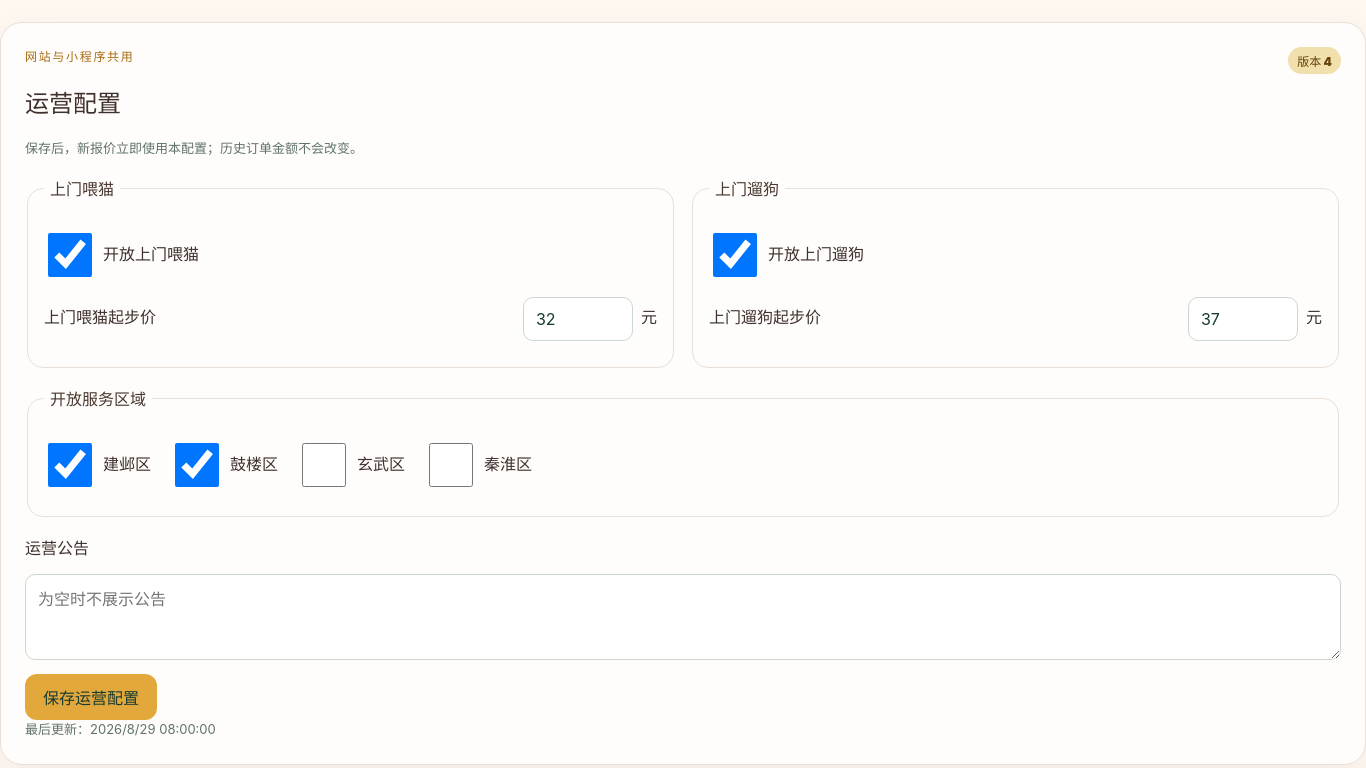
Scenario: OperationsSettingsPanel › saves service switches, prices, districts, and announcement as one versioned update
expect the heading "运营配置" is shown: met, box left=25, top=84, right=134, bottom=119
Click the checkbox labelled "开放上门遛狗" at (735,255), box left=713, top=233, right=757, bottom=277
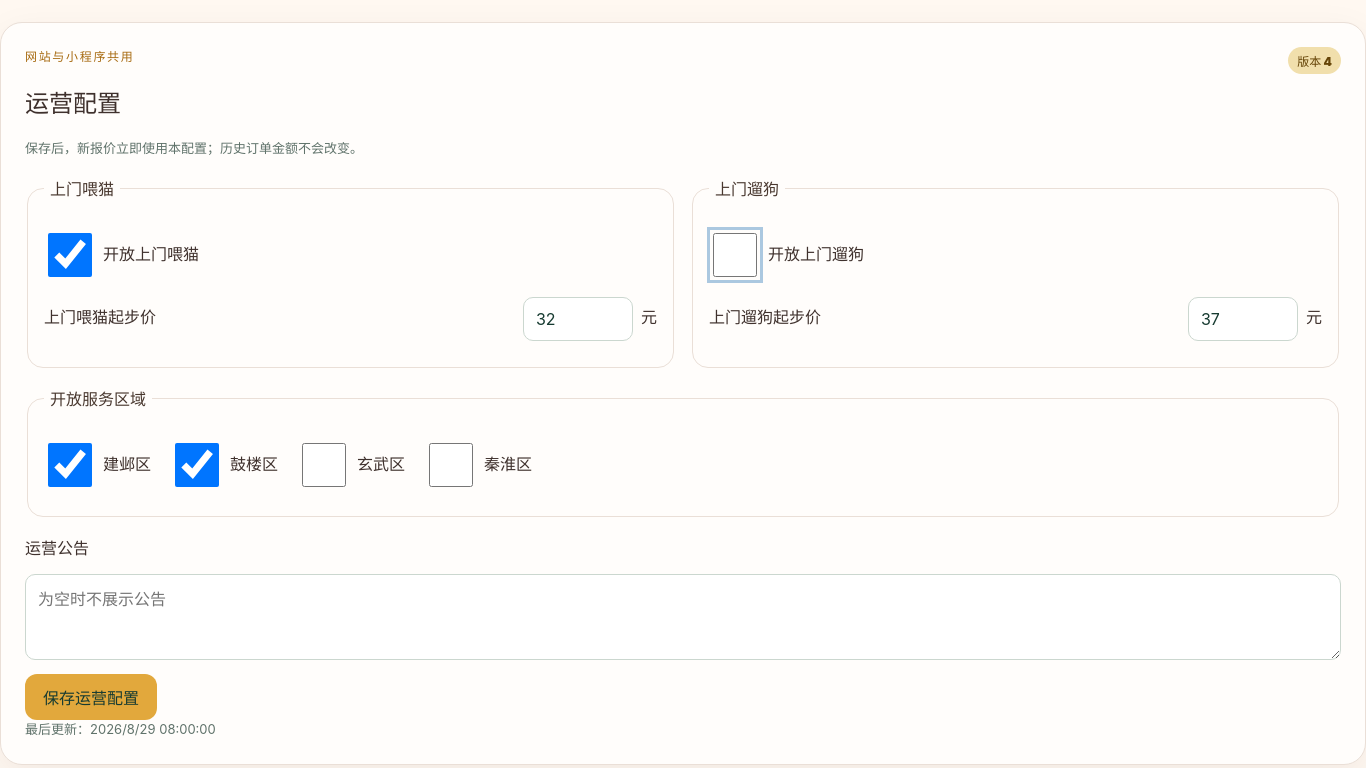
Replace the text in the number field labelled "上门喂猫起步价" with "35" at (578,319), box left=523, top=297, right=633, bottom=341
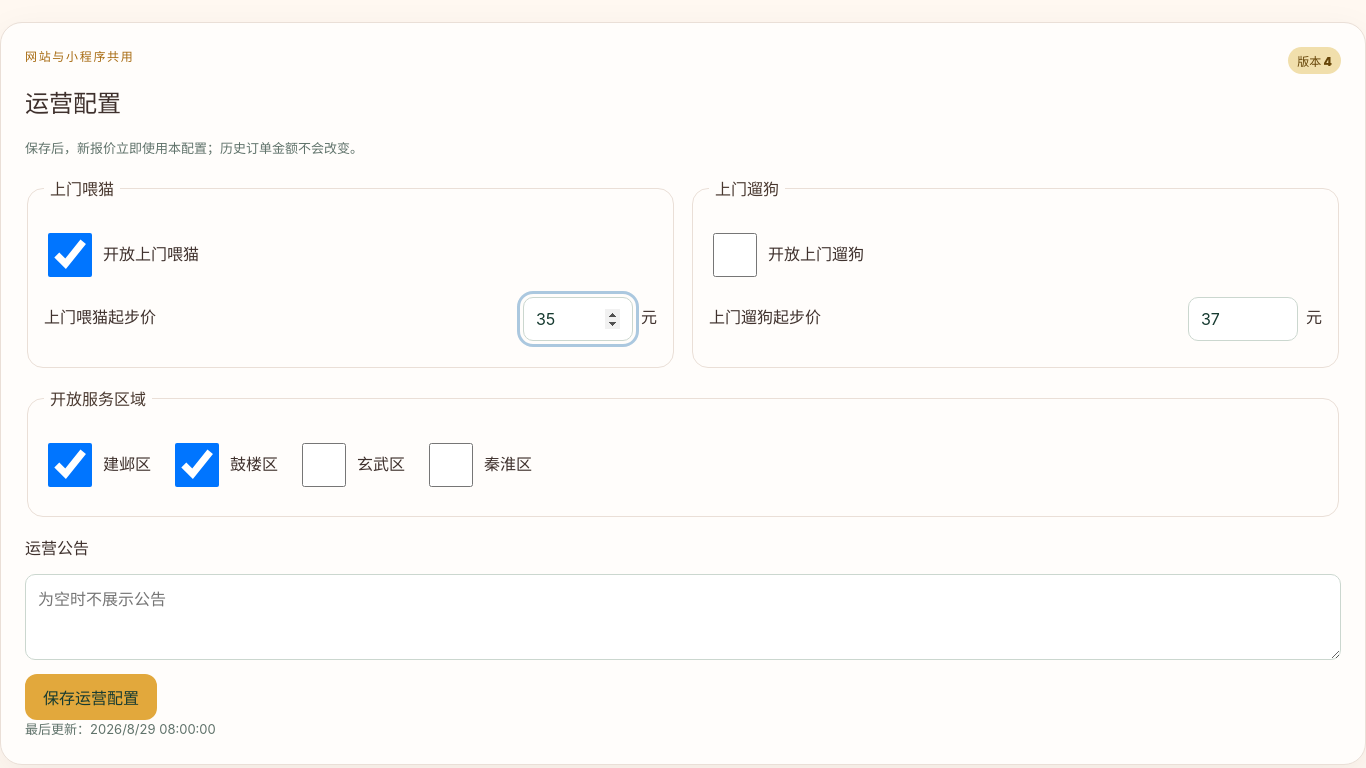
Click the checkbox labelled "玄武区" at (324,465), box left=302, top=443, right=346, bottom=487
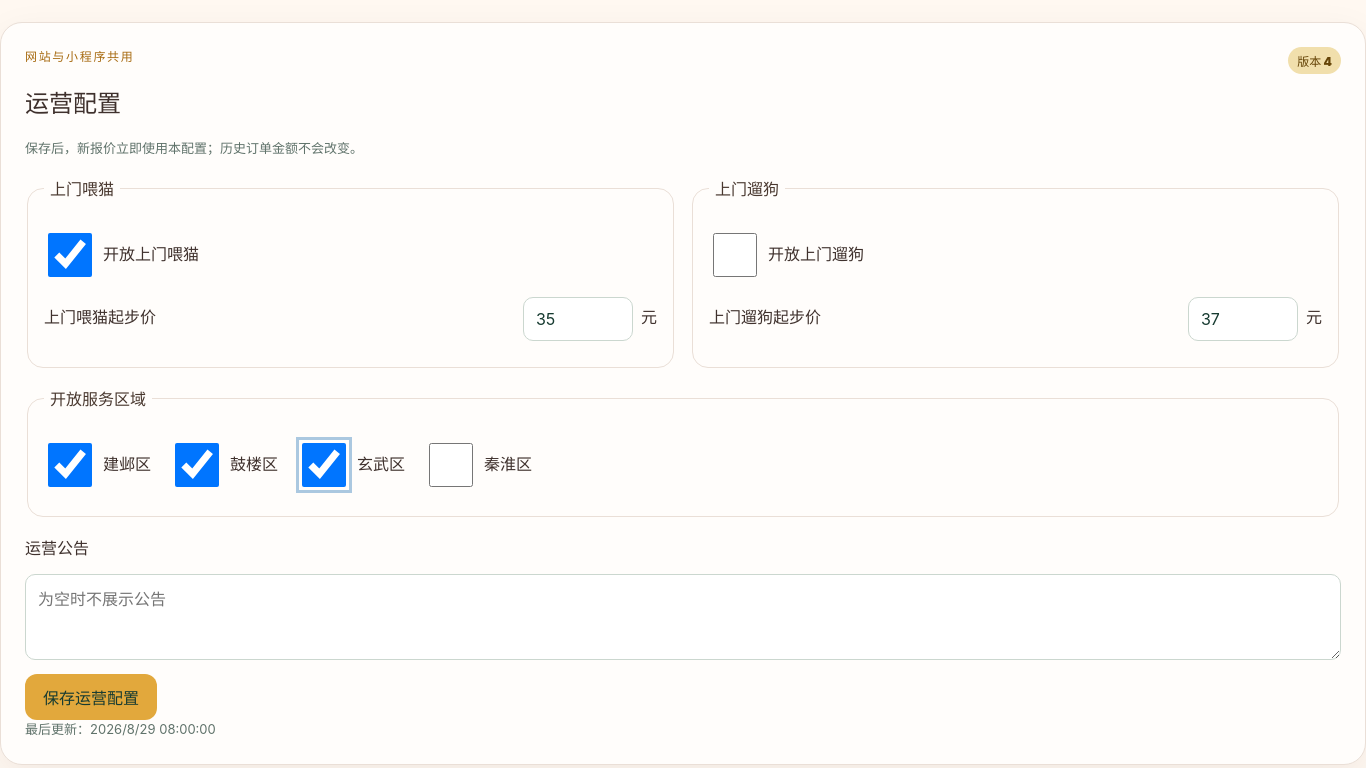
Type "周末正常接单" into the text box labelled "运营公告" at (683,617), box left=25, top=574, right=1341, bottom=660
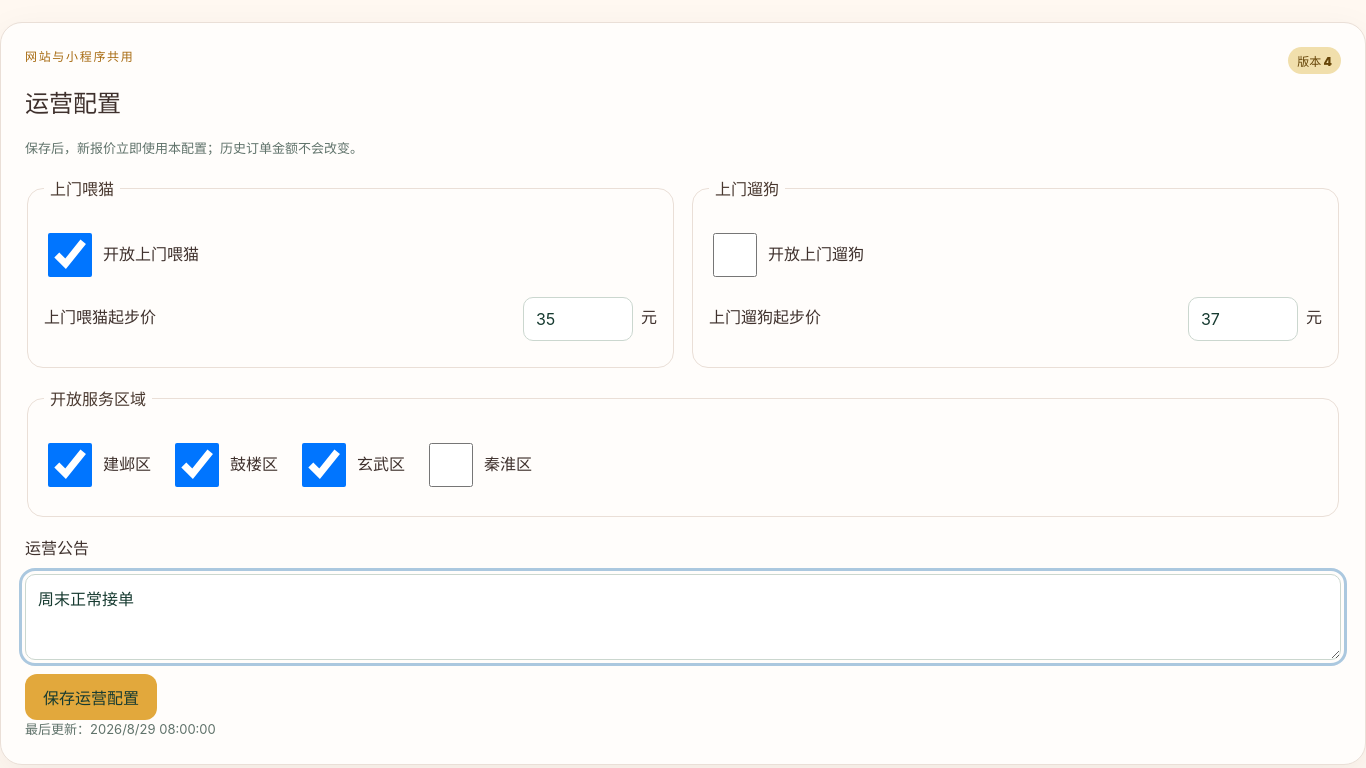
Click the button "保存运营配置" at (91,697), box left=25, top=674, right=157, bottom=720
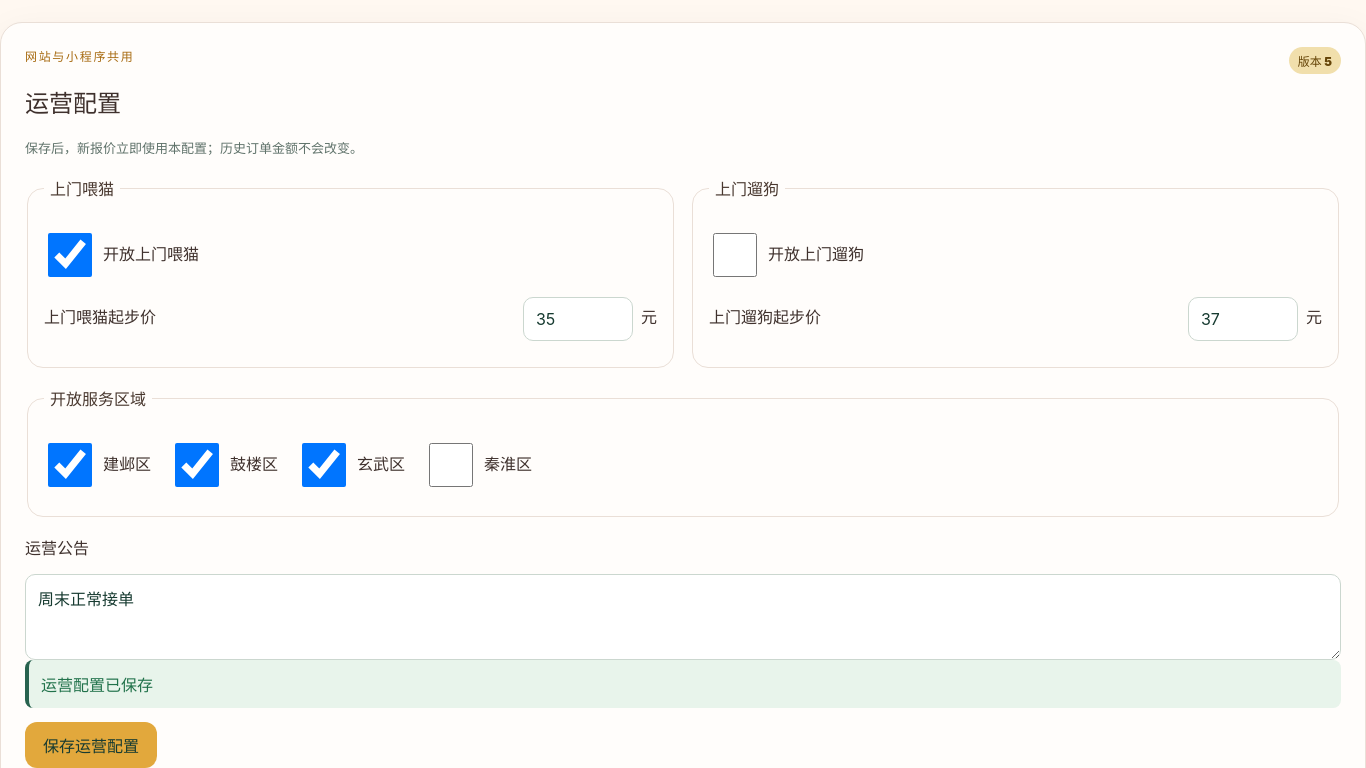
expect the text "运营配置已保存" is shown: met, box left=25, top=660, right=1341, bottom=708
